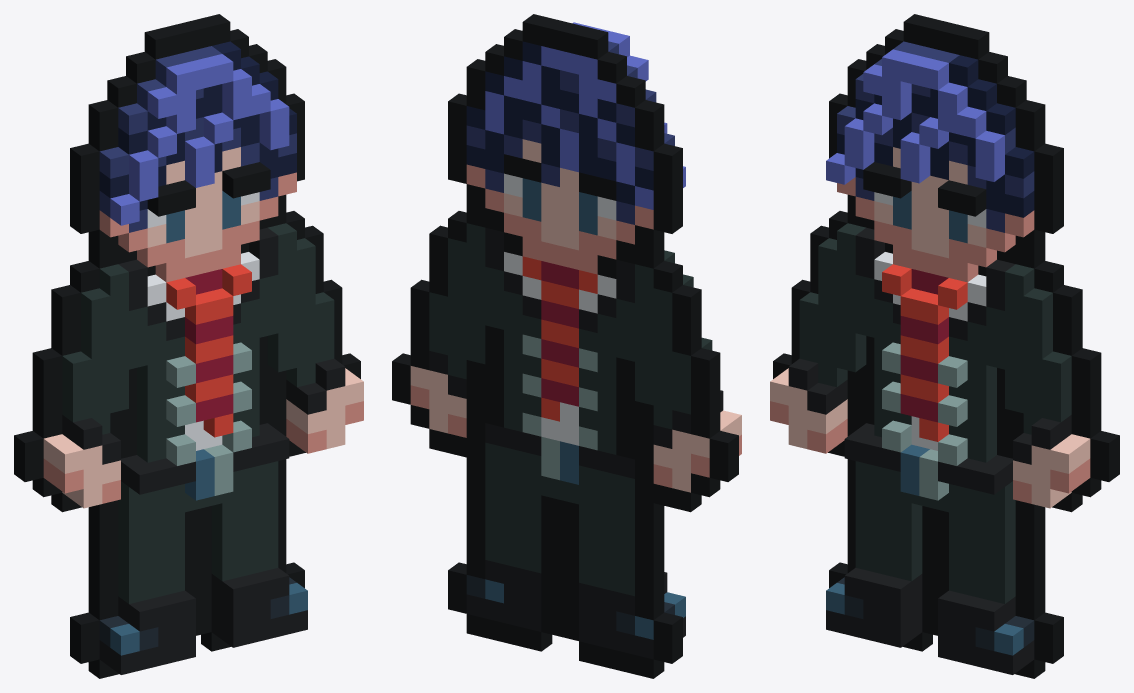
The picture shows the model from 3 angles, left to right: view 1: azimuth 30°, elevation 25°; view 2: azimuth 150°, elevation 25°; view 3: azimuth 330°, elevation 25°; orthographic projection.
Visible parts, largest first — view 1: portrait; view 2: portrait; view 3: portrait.
Boxes of the visible parts, x1=… form: portrait: x1=14, y1=14, x2=363, y2=678; portrait: x1=392, y1=14, x2=741, y2=678; portrait: x1=770, y1=14, x2=1119, y2=678.
Size of the model in its own units: 1.8 by 3.2 by 0.3.
Materials: 1 (1 with a texture image).
